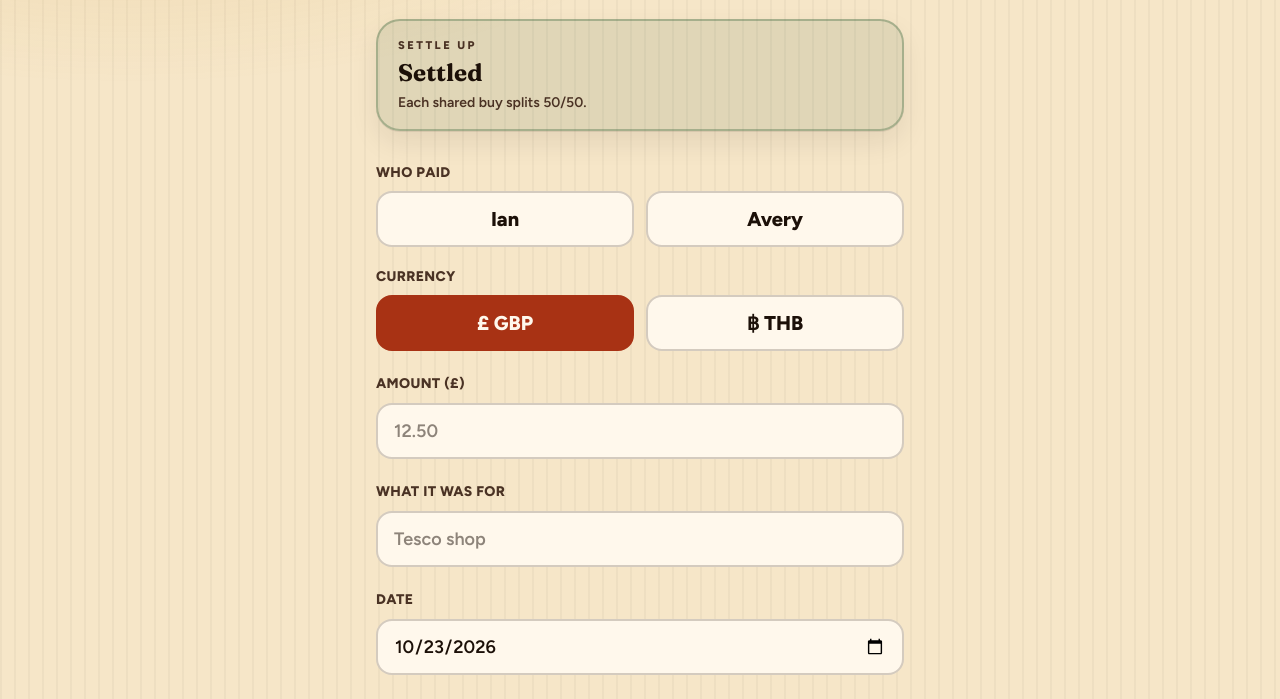
Test: PaymentsTracker › rejects a THB spend without an amount
The width and height of the screenshot is (1280, 699).
Click the button "Ian" at (505, 219), box x1=376 y1=191 x2=634 y2=247
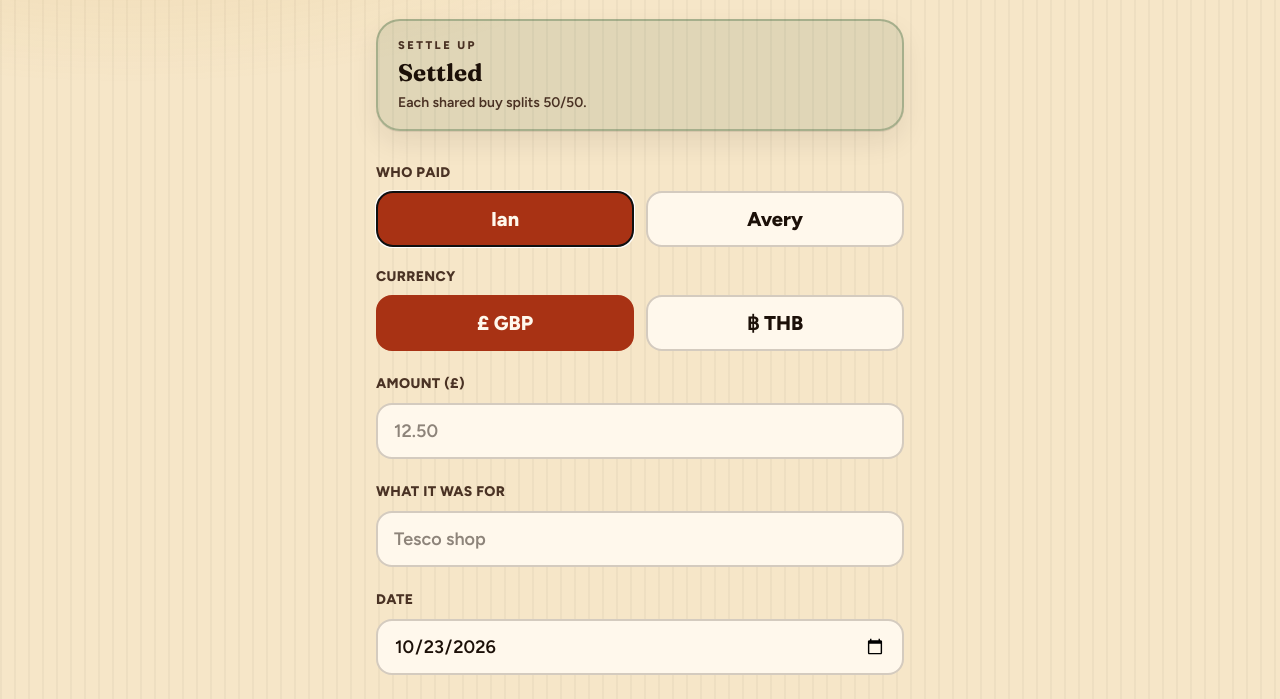
Click the button "฿ THB" at (775, 323), box x1=646 y1=295 x2=904 y2=351
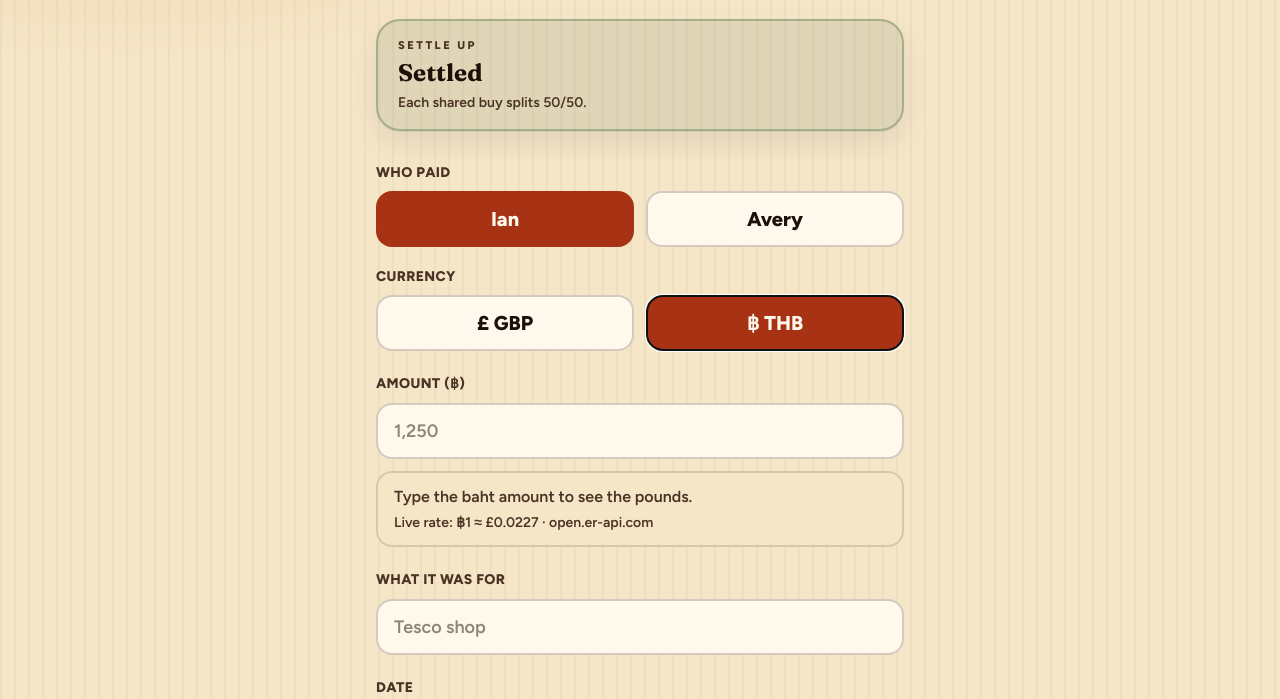
Type "Night market" into the field labelled "What it was for" at (640, 627), box x1=376 y1=599 x2=904 y2=655
(page scrolled)
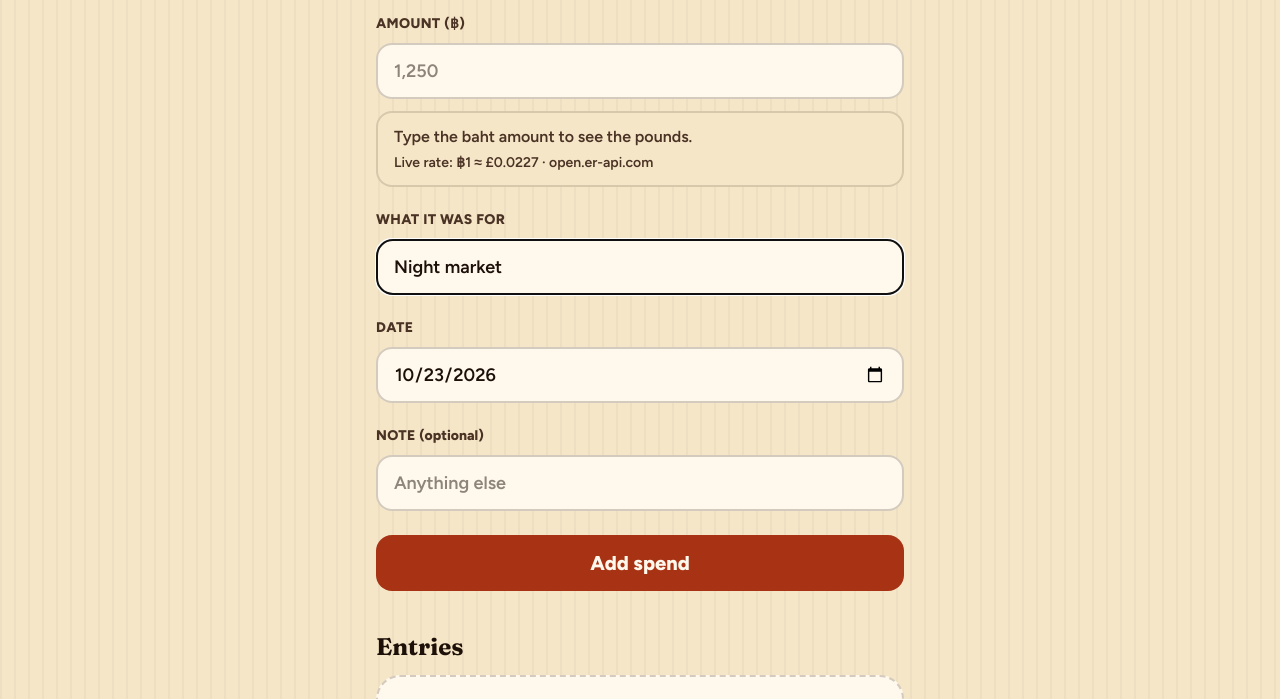
Click the button "Add spend" at (640, 563), box x1=376 y1=535 x2=904 y2=591
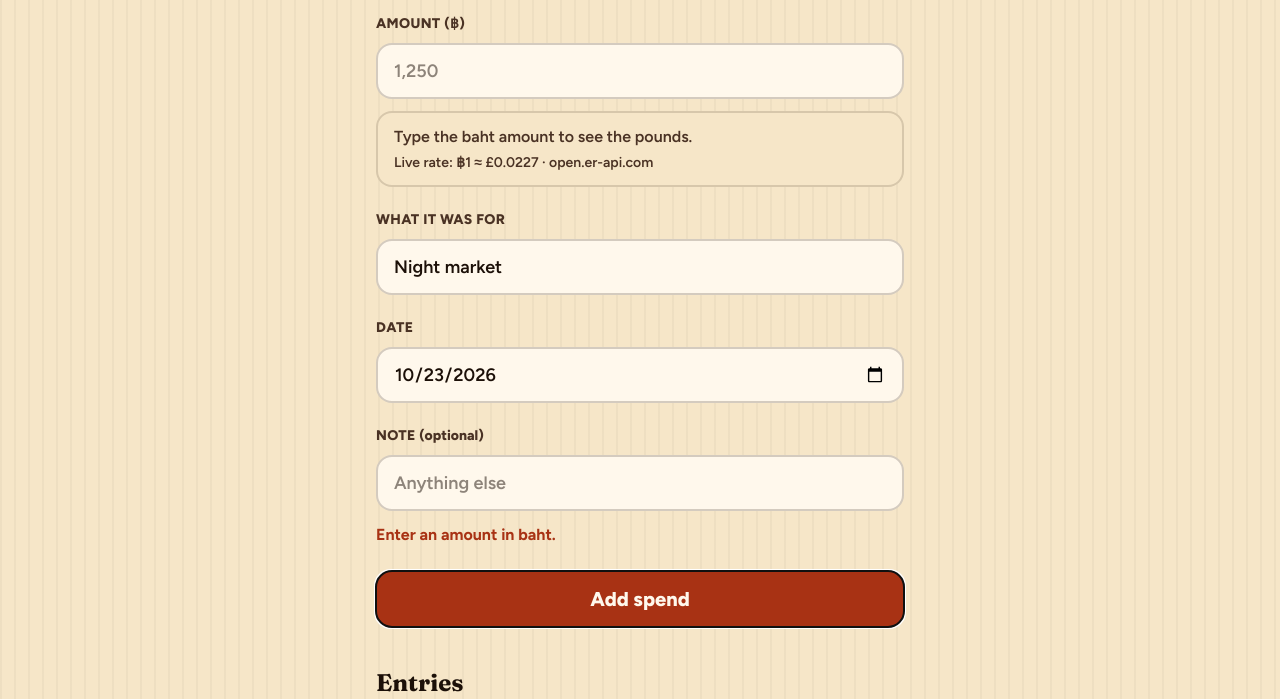
Expected: the message shows "baht", x1=376 y1=525 x2=556 y2=544
